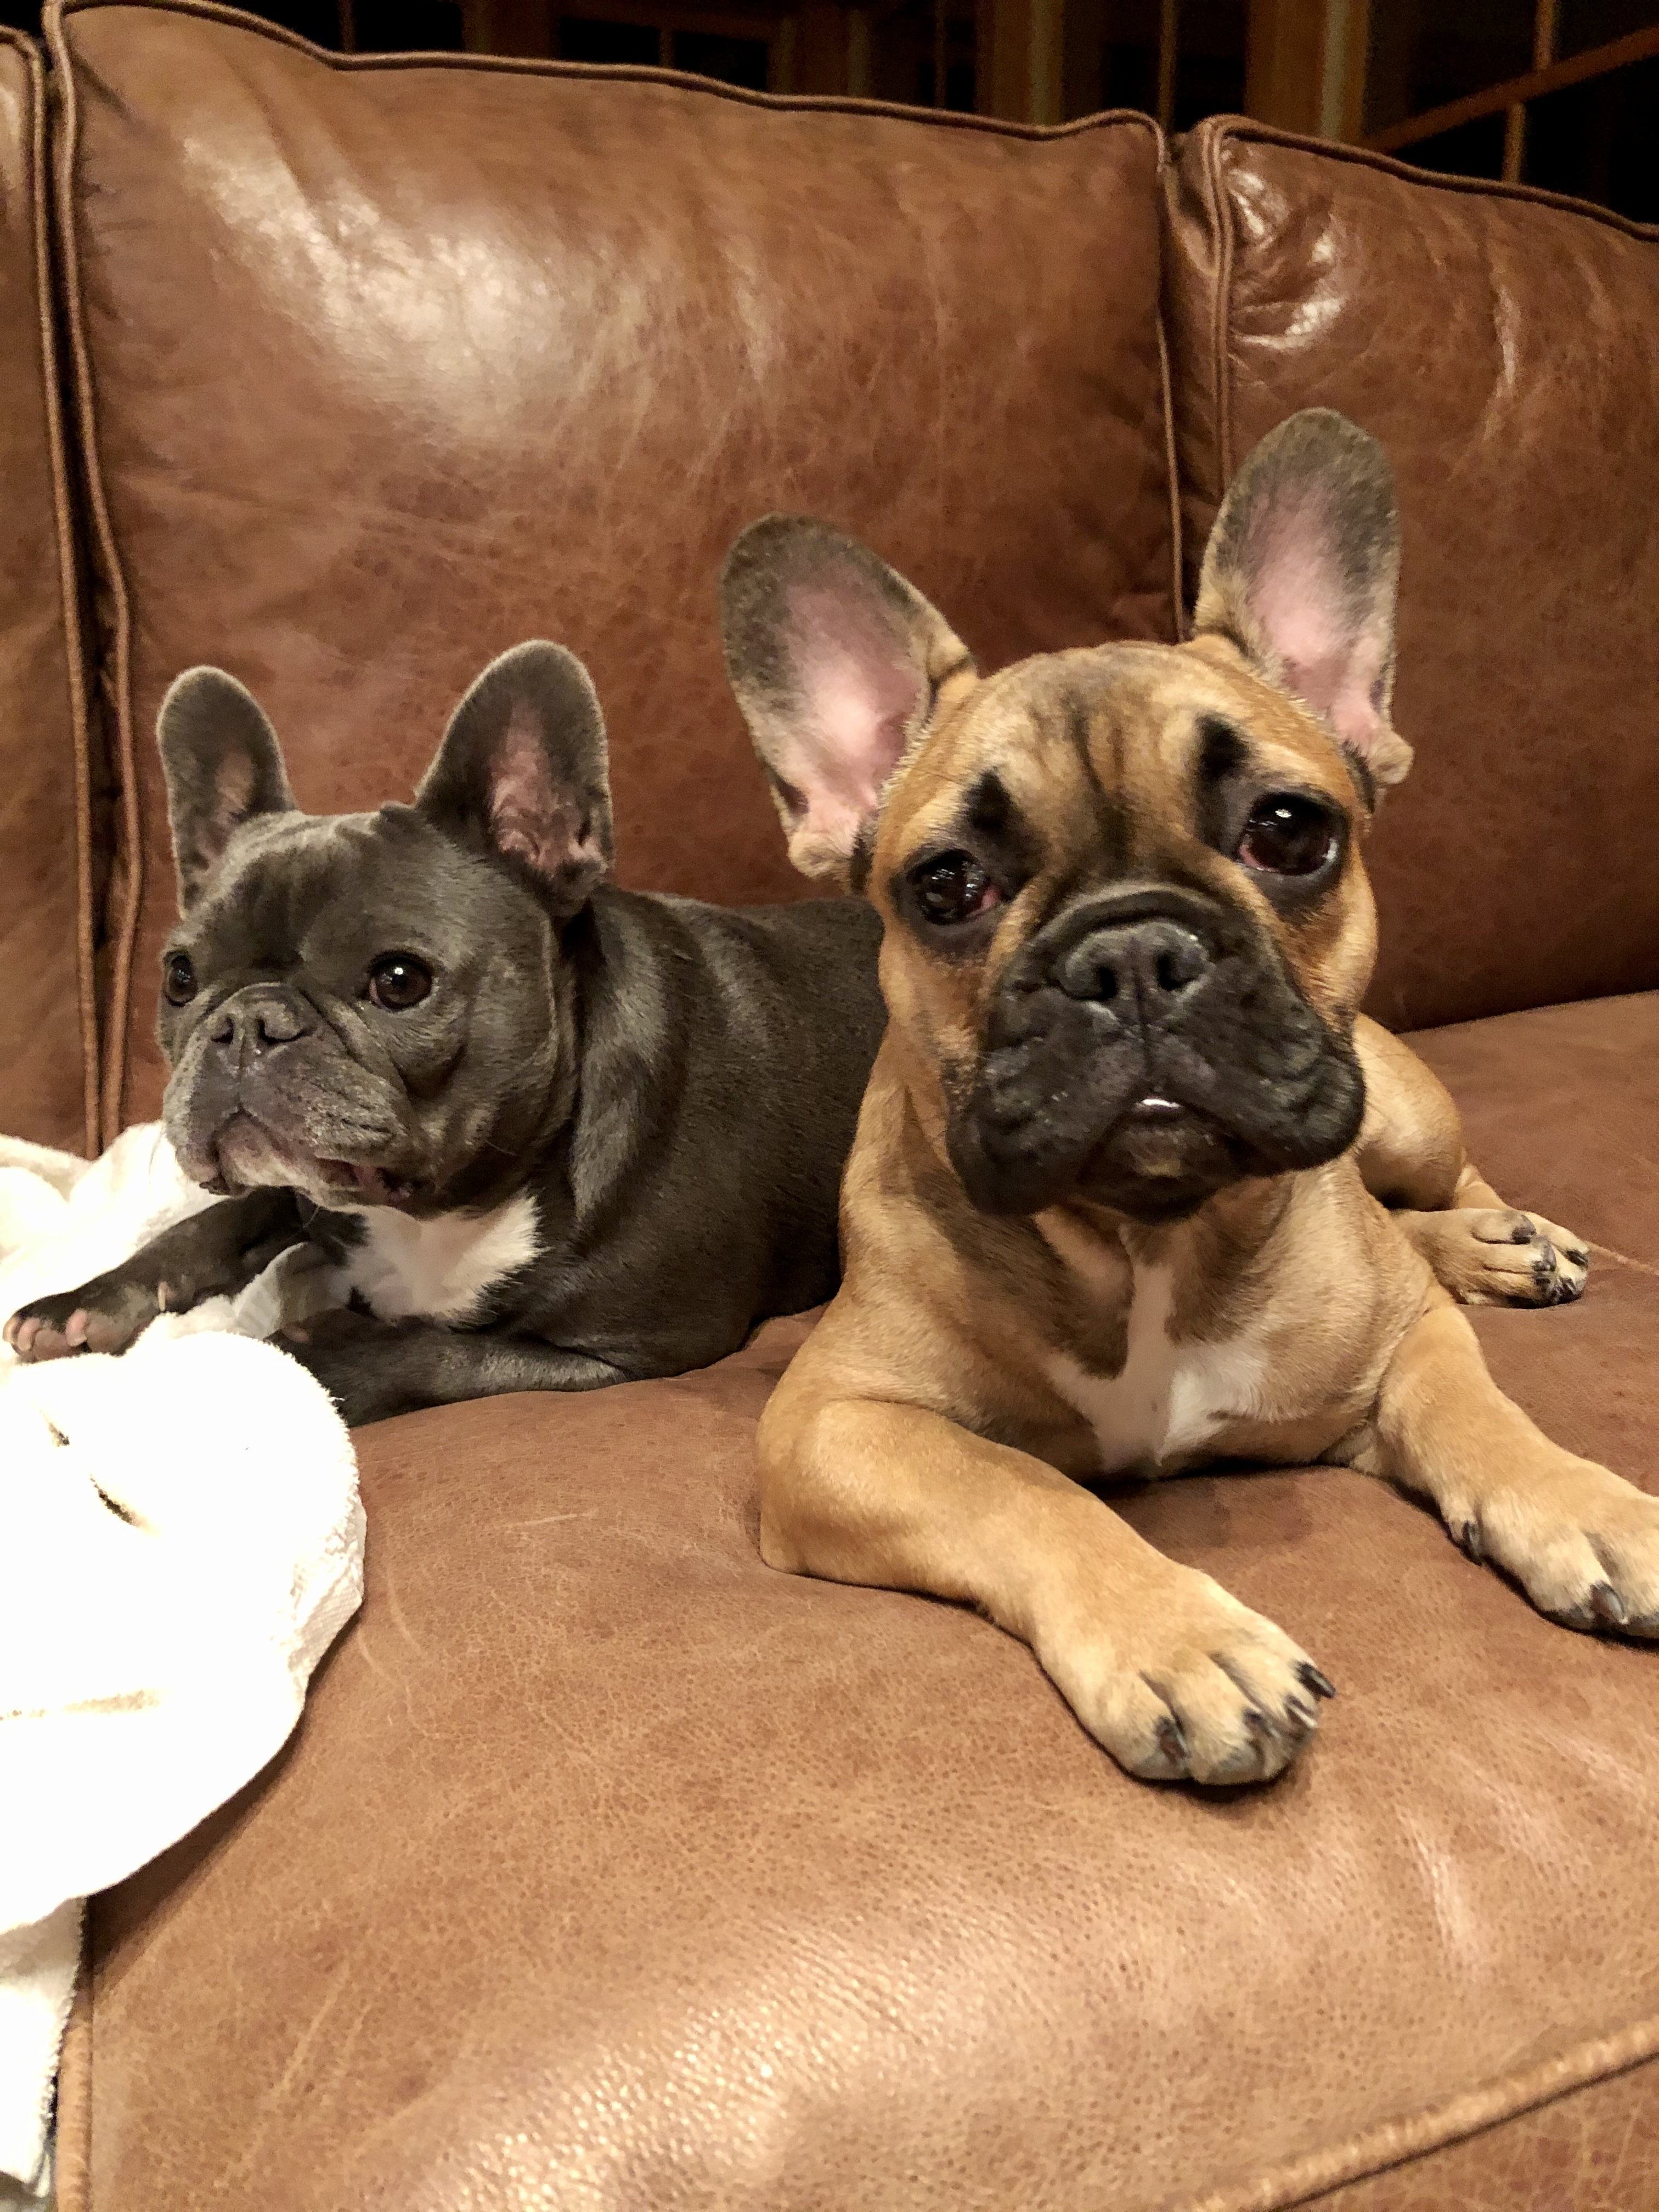lucy: (0, 637, 875, 1395)
